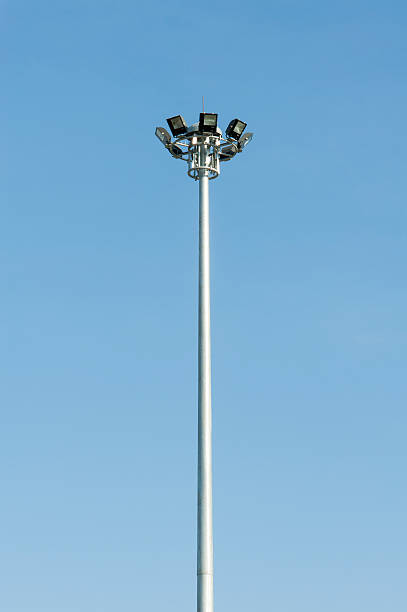light_pole: (195, 181, 217, 612)
